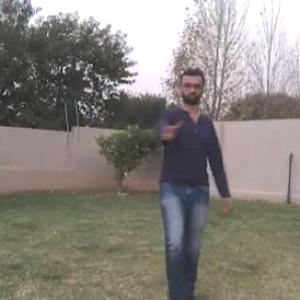takeoff-hand: (153, 110, 182, 148)
